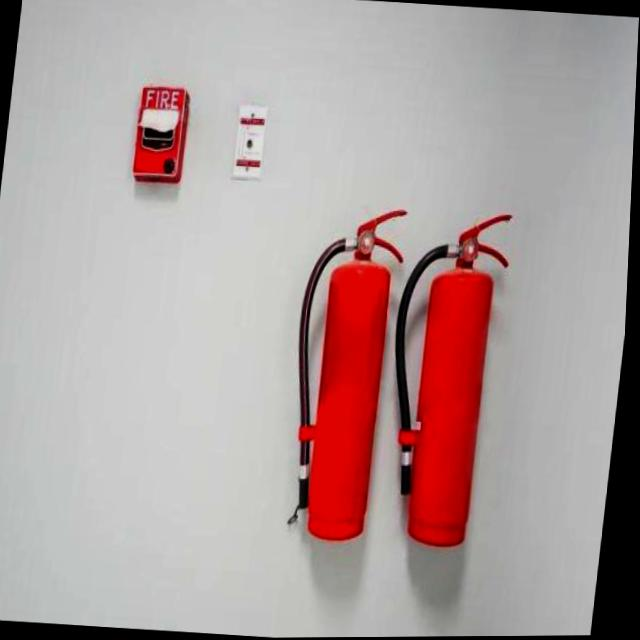FireExtinguisher: (372, 201, 518, 555), (275, 197, 415, 549)
